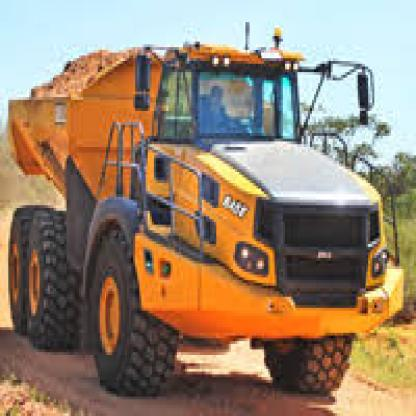dump_truck: (6, 28, 406, 410)
